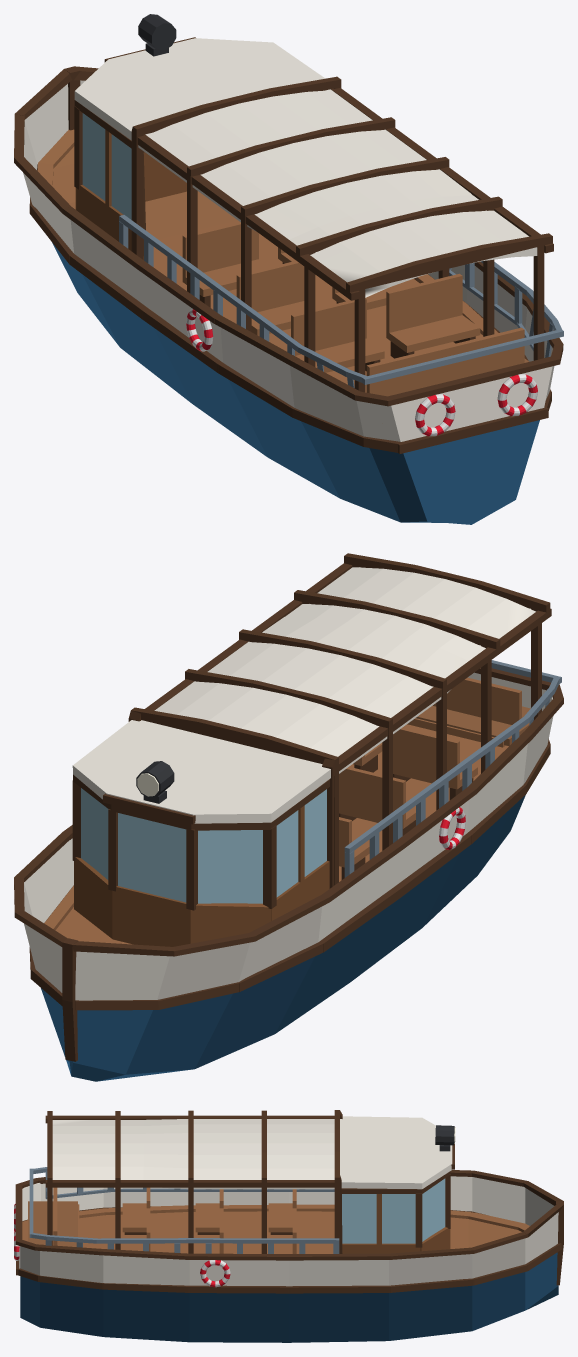
File: main boatt.fbx
3 views of the same model, one above another, from view 1: azimuth 30°, elevation 25°; view 2: azimuth 150°, elevation 25°; view 3: azimuth 270°, elevation 25° (orthographic). The views are drawn at different scales.
Parts seen in each view (by area): view 1: CanopyPillar_-1_4.004; view 2: CanopyPillar_-1_4.004; view 3: CanopyPillar_-1_4.004.
Boxes of the visible parts, <box> form: CanopyPillar_-1_4.004: <box>14,14,563,524</box>; CanopyPillar_-1_4.004: <box>14,553,563,1081</box>; CanopyPillar_-1_4.004: <box>14,1110,563,1342</box>.
Size of the model in its own units: 314 by 332 by 827.
